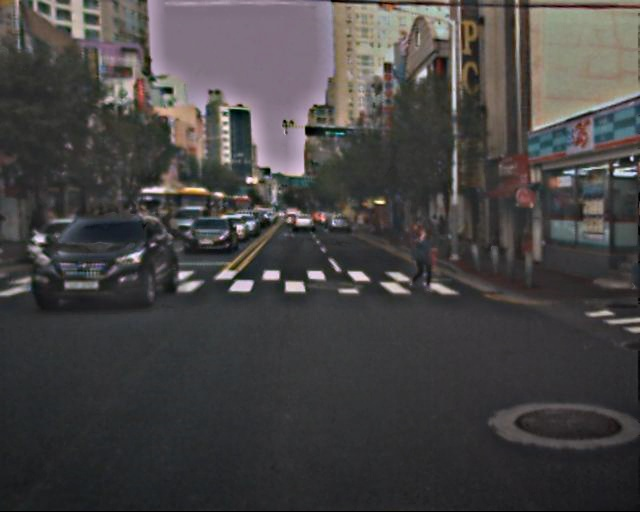person: (407, 223, 440, 294), (421, 217, 451, 243)
